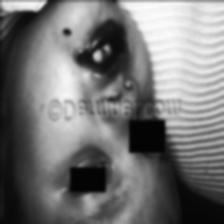Toxin: (116, 22, 125, 56), (61, 26, 70, 36)
